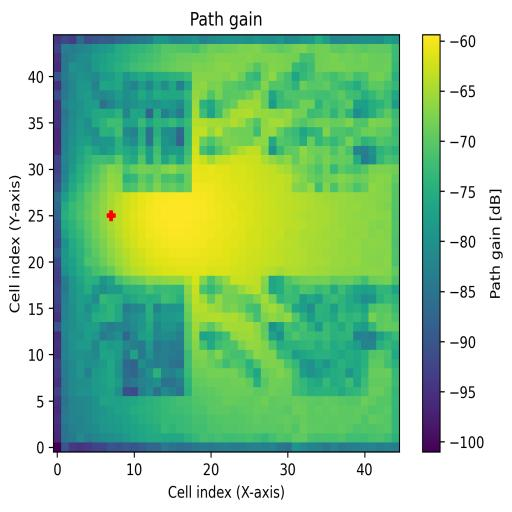Concrete: (291, 72, 370, 192)
Glass: (122, 71, 190, 192)
Metal: (284, 276, 370, 395)
Wood: (115, 275, 185, 396)
